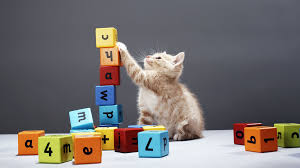cat: (133, 41, 192, 89)
